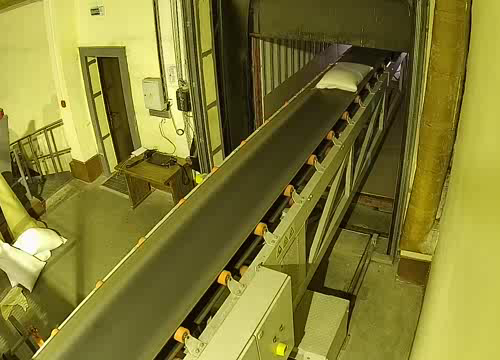bag: (314, 58, 377, 96)
